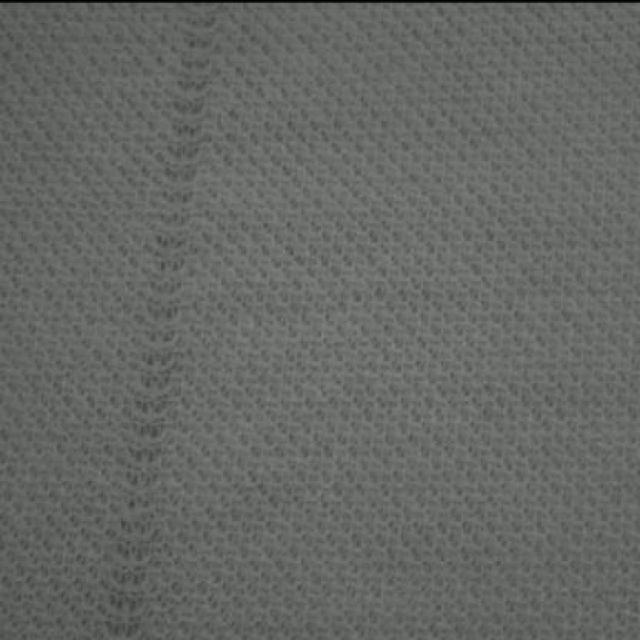Line: (102, 7, 215, 640)
